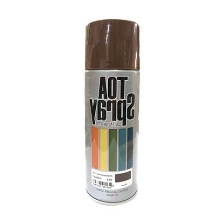aerosol_cans: (78, 11, 148, 211)
